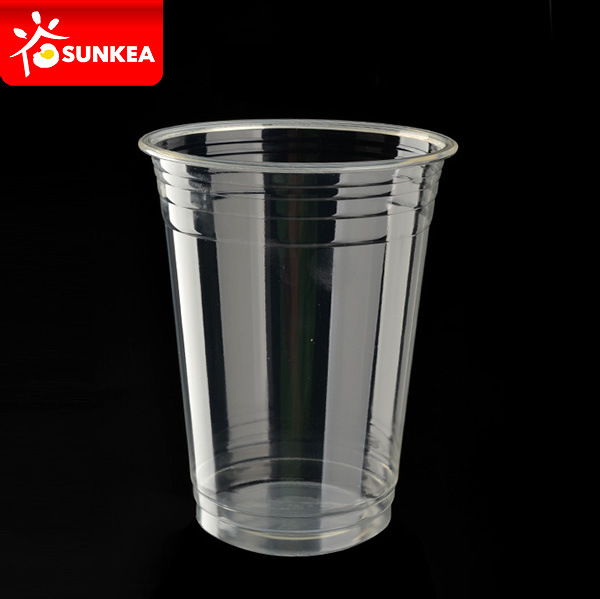plastic_bottle: (135, 113, 463, 562)
